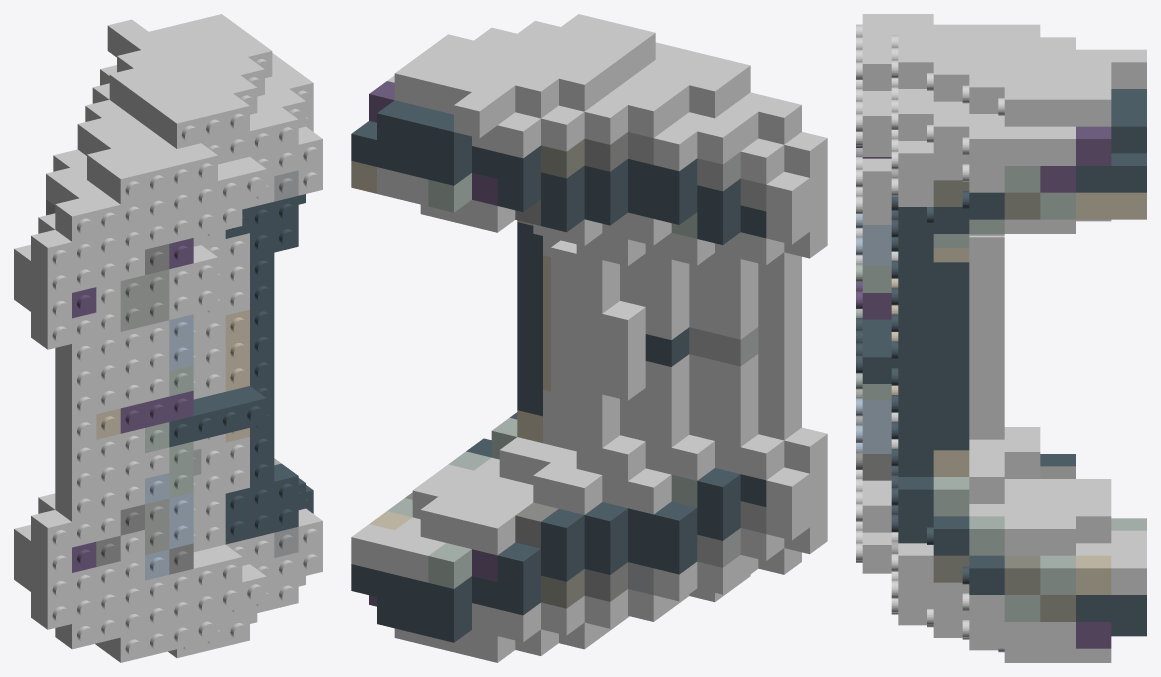
Rendered from full.glb.
The picture shows the model from 3 angles, left to right: view 1: azimuth 30°, elevation 25°; view 2: azimuth 150°, elevation 25°; view 3: azimuth 270°, elevation 25°; orthographic projection. The views are drawn at different scales.
Parts seen in each view (by area): view 1: world; view 2: world; view 3: world.
Part boxes in pixels (x1,y1,x2,y2): world: (14, 14, 322, 662); world: (351, 14, 827, 662); world: (856, 14, 1146, 662).
Bounding box in the file's own units: 104 × 168 × 78.6.
